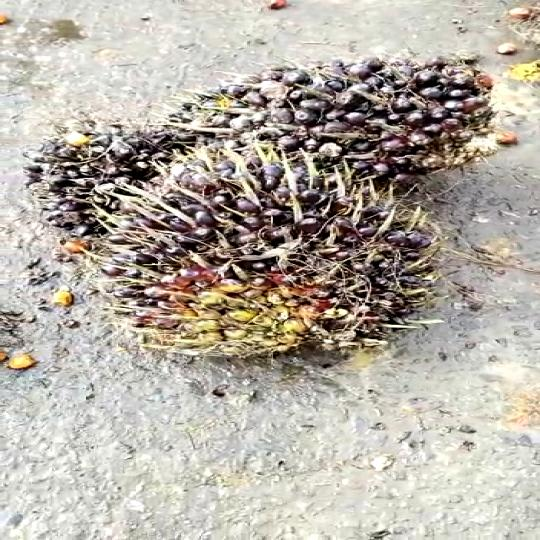mentah: (23, 131, 485, 376), (203, 56, 540, 173)
